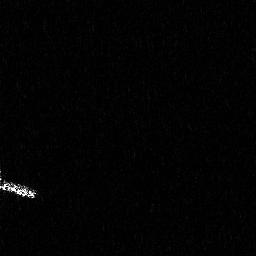ship: (1, 171, 40, 200)
